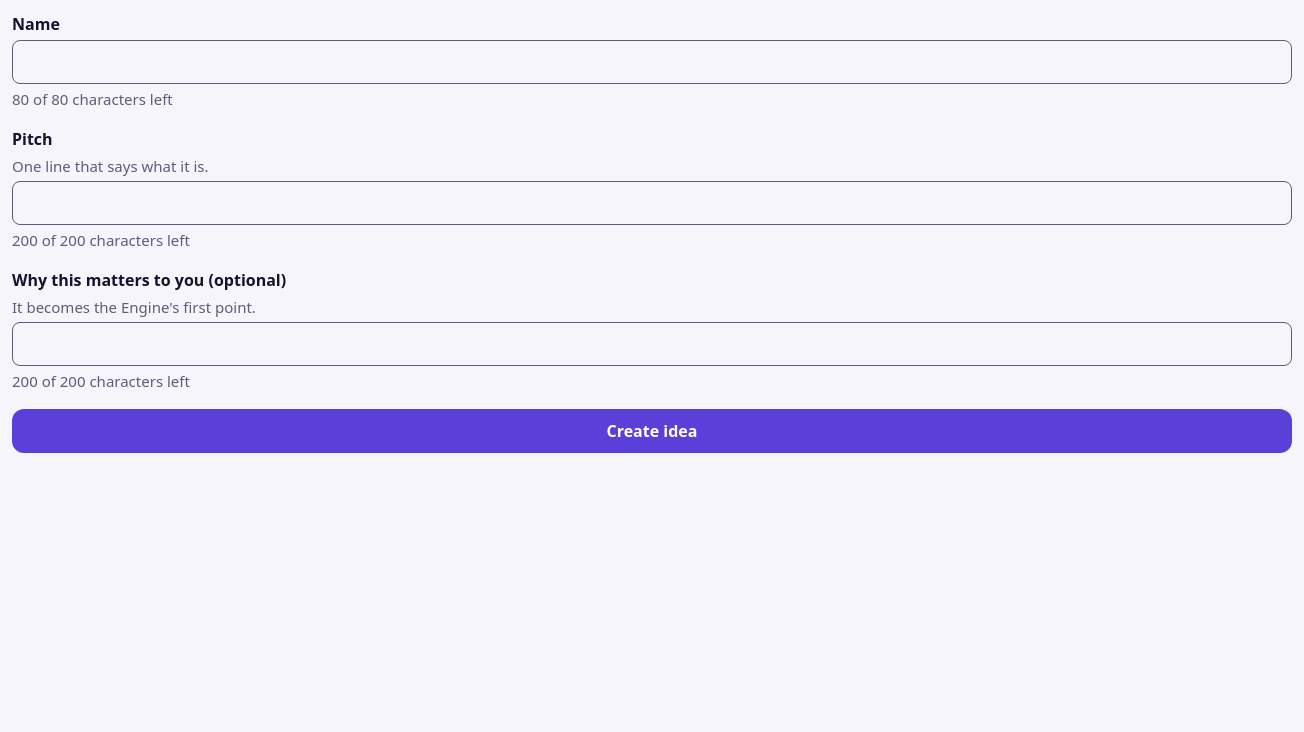
Test: NewRocketForm › shows the limit sentence from the API as an alert
This screenshot has width=1304, height=732.
Type "One more" into the field labelled "Name" at (652, 62), box [12, 40, 1292, 84]
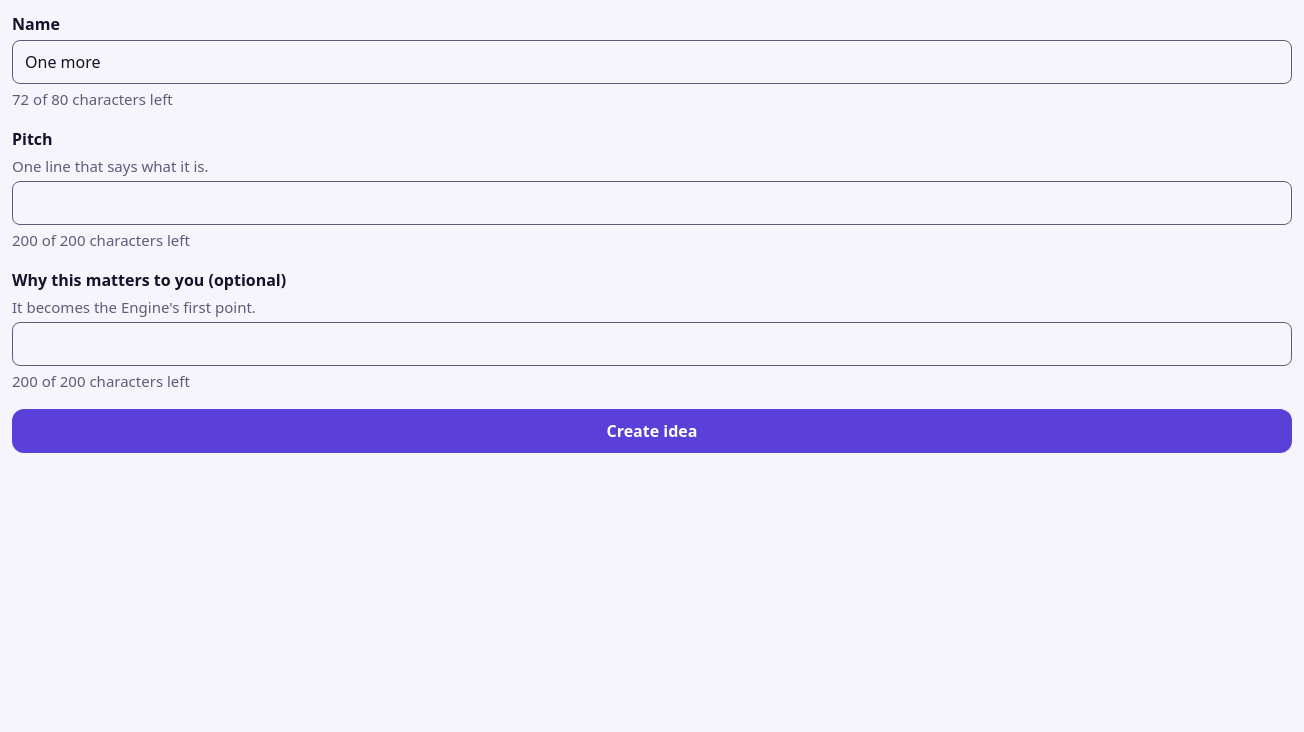
Type "A pitch." into the field labelled "Pitch" at (652, 203), box [12, 181, 1292, 225]
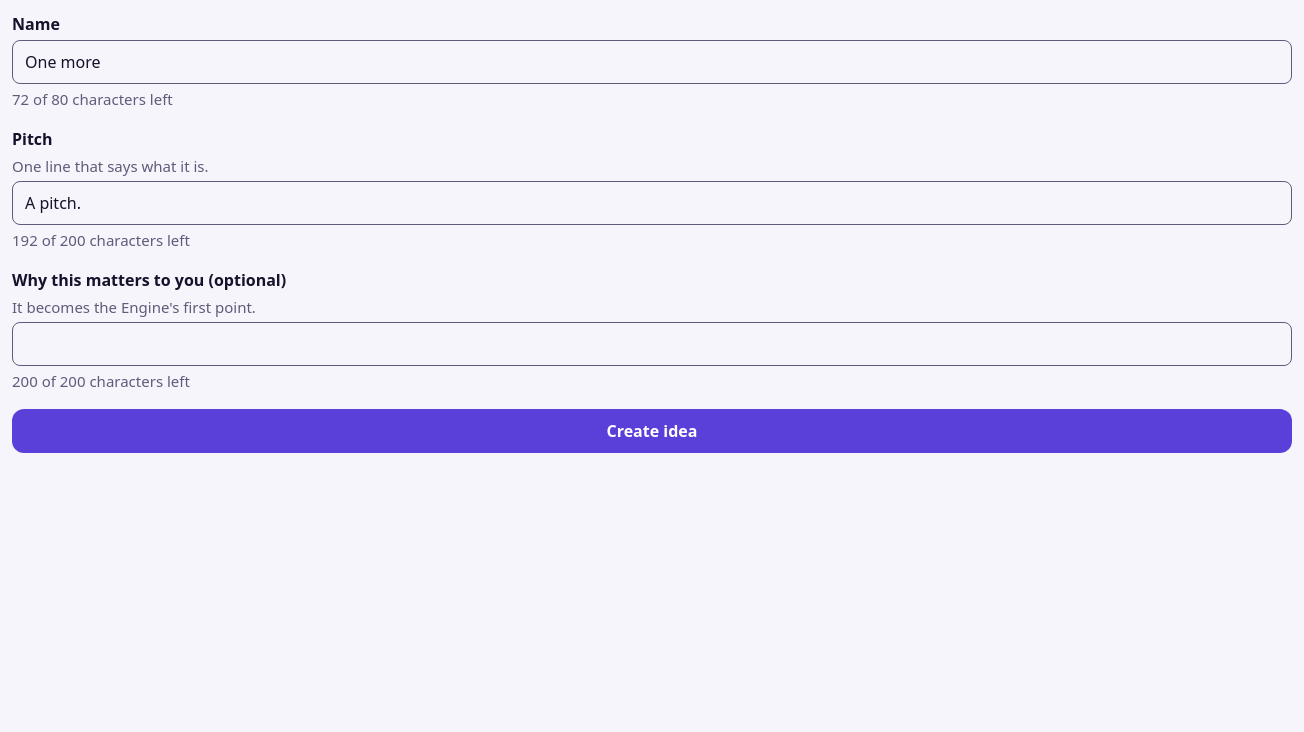
Submit the form named "New idea", box [12, 12, 1292, 452]
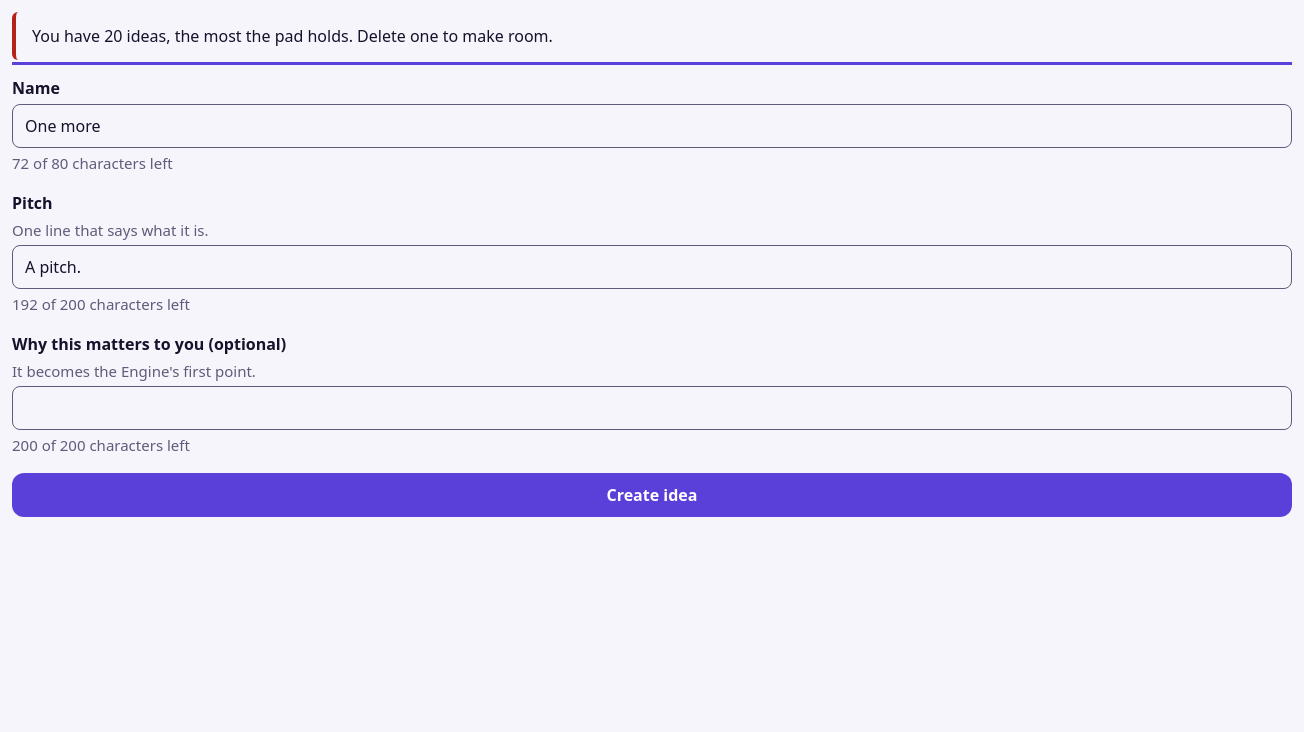
Result: the message shows "You have 20 ideas" at [32, 25, 553, 47]
